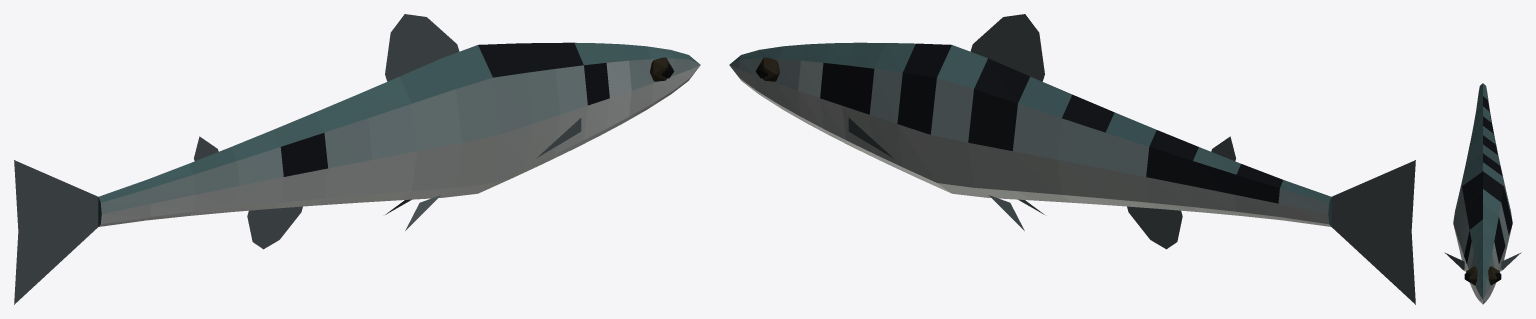
File: chinook-salmon.glb
The picture shows the model from 3 angles, left to right: view 1: azimuth 30°, elevation 25°; view 2: azimuth 150°, elevation 25°; view 3: azimuth 270°, elevation 25°; orthographic projection. The views are drawn at different scales.
Parts seen in each view (by area): view 1: chinook-salmon; view 2: chinook-salmon; view 3: chinook-salmon.
Part boxes in pixels (bbox=[...]): chinook-salmon: bbox=[14, 14, 700, 304]; chinook-salmon: bbox=[729, 14, 1415, 304]; chinook-salmon: bbox=[1444, 83, 1521, 304].
Size of the model in its own units: 1.14 by 0.329 by 0.159.
